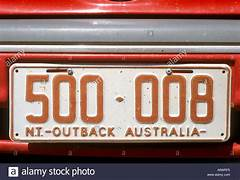number_plate: (13, 65, 228, 142)
